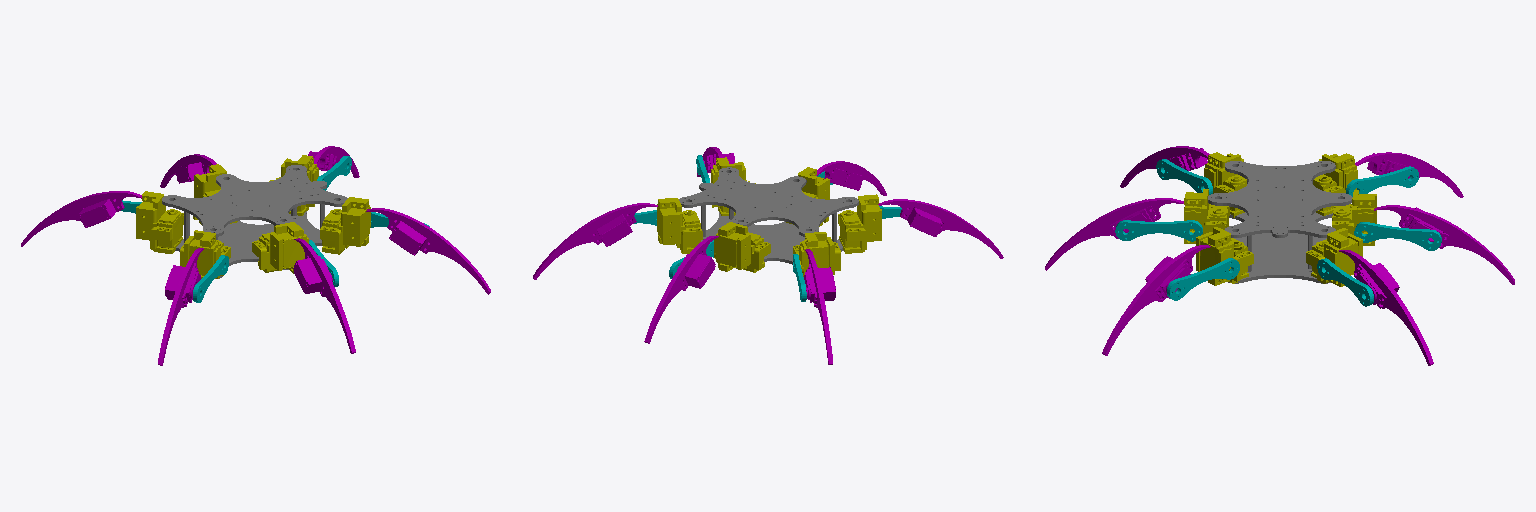
robot.urdf — hexapod:
<?xml version="1.0" encoding="utf-8"?>
<!-- =================================================================================== -->
<!-- |    This document was autogenerated by xacro from hexapod_model.xacro            | -->
<!-- |    EDITING THIS FILE BY HAND IS NOT RECOMMENDED                                 | -->
<!-- =================================================================================== -->
<robot name="hexapod">
  <!-- Robot Frame -->
  <link name="base_link"/>
  <joint name="base_joint" type="fixed">
    <parent link="base_link"/>
    <child link="body"/>
    <origin rpy="0 0 0" xyz="0 0 0"/>
  </joint>
  <link name="body">
    <inertial>
      <mass value="0.8"/>
      <inertia ixx="0.007" ixy="0" ixz="0" iyy="0.012" iyz="0" izz="0.010"/>
    </inertial>
    <visual>
      <origin rpy="0 0 0" xyz="0 0 0"/>
      <geometry>
        <mesh filename="package://hexapod_description/meshes/BODY.stl"/>
      </geometry>
      <material name="grey">
        <color rgba="0.5 0.5 0.5 1"/>
      </material>
    </visual>
    <collision>
      <origin rpy="0 0 0" xyz="0 0 0"/>
      <geometry>
        <mesh filename="package://hexapod_description/meshes/BODY_SIMPLIFIED.stl"/>
      </geometry>
    </collision>
  </link>
  <!-- Construindo a perna [Building a leg]-->
  <joint name="leg_center_joint_R1" type="fixed">
    <origin rpy="0 0 0" xyz="0.0875 0.050175 0"/>
    <parent link="body"/>
    <child link="leg_center_R1"/>
  </joint>
  <link name="leg_center_R1"/>
  <joint name="coxa_joint_R1" type="revolute">
    <origin rpy="0 0 0.785398163397" xyz="0 0 0"/>
    <parent link="leg_center_R1"/>
    <child link="coxa_R1"/>
    <axis xyz="0 0 -1"/>
    <limit effort="10000" lower="-1.5" upper="-1.5" velocity="100"/>
  </joint>
  <link name="coxa_R1">
    <inertial>
      <mass value="0.5"/>
      <inertia ixx="0.001" ixy="0" ixz="0" iyy="0" iyz="0" izz="0.001"/>
    </inertial>
    <visual>
      <origin rpy="0 0 0" xyz="0 0 0"/>
      <geometry>
        <mesh filename="package://hexapod_description/meshes/COXA_R.stl"/>
      </geometry>
      <material name="">
        <color rgba="0.7 0.7 0 1"/>
      </material>
    </visual>
    <collision>
      <origin rpy="0 0 0" xyz="0 0 0"/>
      <geometry>
        <mesh filename="package://hexapod_description/meshes/COXA_R_SIMPLIFIED.stl"/>
      </geometry>
    </collision>
  </link>
  <joint name="femur_joint_R1" type="revolute">
    <origin rpy="0 0 -1.57079632679" xyz="-0.022 -0.028 0.0274"/>
    <parent link="coxa_R1"/>
    <child link="femur_R1"/>
    <axis xyz="0 0 -1"/>
    <limit effort="10000" lower="-1.5" upper="-1.5" velocity="100"/>
  </joint>
  <link name="femur_R1">
    <inertial>
      <mass value="0.05"/>
      <inertia ixx="0" ixy="0" ixz="0" iyy="0" iyz="0" izz="0"/>
    </inertial>
    <visual>
      <origin rpy="0 0 0" xyz="0 0 0"/>
      <geometry>
        <mesh filename="package://hexapod_description/meshes/FEMUR_R.stl"/>
      </geometry>
      <material name="">
        <color rgba="0 0.7 0.7 1"/>
      </material>
    </visual>
    <collision>
      <origin rpy="0 0 0" xyz="0 0 0"/>
      <geometry>
        <mesh filename="package://hexapod_description/meshes/FEMUR_R_SIMPLIFIED.stl"/>
      </geometry>
    </collision>
  </link>
  <joint name="tibia_joint_R1" type="revolute">
    <origin rpy="0 0 1.57079632679" xyz="0.003 -0.0765 -0.0055"/>
    <parent link="femur_R1"/>
    <child link="tibia_R1"/>
    <axis xyz="0 0 1"/>
    <limit effort="10000" lower="-1.5" upper="-1.5" velocity="100"/>
  </joint>
  <link name="tibia_R1">
    <inertial>
      <mass value="0.2"/>
      <inertia ixx="0" ixy="0" ixz="0" iyy="0" iyz="0" izz="0"/>
    </inertial>
    <visual>
      <origin rpy="0 0 0" xyz="0 0 0"/>
      <geometry>
        <mesh filename="package://hexapod_description/meshes/TIBIA_R.stl"/>
      </geometry>
      <material name="">
        <color rgba="0.7 0 0.7 1"/>
      </material>
    </visual>
    <collision>
      <origin rpy="0 0 0" xyz="0 0 0"/>
      <geometry>
        <mesh filename="package://hexapod_description/meshes/TIBIA_R_SIMPLIFIED.stl"/>
      </geometry>
    </collision>
  </link>
  <joint name="tibia_foot_joint_R1" type="fixed">
    <origin rpy="0 0 0" xyz="0 0.100 -0.094"/>
    <parent link="tibia_R1"/>
    <child link="tibia_foot_R1"/>
  </joint>
  <link name="tibia_foot_R1"/>
  <!-- Construindo a perna [Building a leg]-->
  <joint name="leg_center_joint_R2" type="fixed">
    <origin rpy="0 0 0" xyz="0 0.07 0"/>
    <parent link="body"/>
    <child link="leg_center_R2"/>
  </joint>
  <link name="leg_center_R2"/>
  <joint name="coxa_joint_R2" type="revolute">
    <origin rpy="0 0 1.57079632679" xyz="0 0 0"/>
    <parent link="leg_center_R2"/>
    <child link="coxa_R2"/>
    <axis xyz="0 0 -1"/>
    <limit effort="10000" lower="-1.5" upper="-1.5" velocity="100"/>
  </joint>
  <link name="coxa_R2">
    <inertial>
      <mass value="0.5"/>
      <inertia ixx="0.001" ixy="0" ixz="0" iyy="0" iyz="0" izz="0.001"/>
    </inertial>
    <visual>
      <origin rpy="0 0 0" xyz="0 0 0"/>
      <geometry>
        <mesh filename="package://hexapod_description/meshes/COXA_R.stl"/>
      </geometry>
      <material name="">
        <color rgba="0.7 0.7 0 1"/>
      </material>
    </visual>
    <collision>
      <origin rpy="0 0 0" xyz="0 0 0"/>
      <geometry>
        <mesh filename="package://hexapod_description/meshes/COXA_R_SIMPLIFIED.stl"/>
      </geometry>
    </collision>
  </link>
  <joint name="femur_joint_R2" type="revolute">
    <origin rpy="0 0 -1.57079632679" xyz="-0.022 -0.028 0.0274"/>
    <parent link="coxa_R2"/>
    <child link="femur_R2"/>
    <axis xyz="0 0 -1"/>
    <limit effort="10000" lower="-1.5" upper="-1.5" velocity="100"/>
  </joint>
  <link name="femur_R2">
    <inertial>
      <mass value="0.05"/>
      <inertia ixx="0" ixy="0" ixz="0" iyy="0" iyz="0" izz="0"/>
    </inertial>
    <visual>
      <origin rpy="0 0 0" xyz="0 0 0"/>
      <geometry>
        <mesh filename="package://hexapod_description/meshes/FEMUR_R.stl"/>
      </geometry>
      <material name="">
        <color rgba="0 0.7 0.7 1"/>
      </material>
    </visual>
    <collision>
      <origin rpy="0 0 0" xyz="0 0 0"/>
      <geometry>
        <mesh filename="package://hexapod_description/meshes/FEMUR_R_SIMPLIFIED.stl"/>
      </geometry>
    </collision>
  </link>
  <joint name="tibia_joint_R2" type="revolute">
    <origin rpy="0 0 1.57079632679" xyz="0.003 -0.0765 -0.0055"/>
    <parent link="femur_R2"/>
    <child link="tibia_R2"/>
    <axis xyz="0 0 1"/>
    <limit effort="10000" lower="-1.5" upper="-1.5" velocity="100"/>
  </joint>
  <link name="tibia_R2">
    <inertial>
      <mass value="0.2"/>
      <inertia ixx="0" ixy="0" ixz="0" iyy="0" iyz="0" izz="0"/>
    </inertial>
    <visual>
      <origin rpy="0 0 0" xyz="0 0 0"/>
      <geometry>
        <mesh filename="package://hexapod_description/meshes/TIBIA_R.stl"/>
      </geometry>
      <material name="">
        <color rgba="0.7 0 0.7 1"/>
      </material>
    </visual>
    <collision>
      <origin rpy="0 0 0" xyz="0 0 0"/>
      <geometry>
        <mesh filename="package://hexapod_description/meshes/TIBIA_R_SIMPLIFIED.stl"/>
      </geometry>
    </collision>
  </link>
  <joint name="tibia_foot_joint_R2" type="fixed">
    <origin rpy="0 0 0" xyz="0 0.100 -0.094"/>
    <parent link="tibia_R2"/>
    <child link="tibia_foot_R2"/>
  </joint>
  <link name="tibia_foot_R2"/>
  <!-- Construindo a perna [Building a leg]-->
  <joint name="leg_center_joint_R3" type="fixed">
    <origin rpy="0 0 0" xyz="-0.0875 0.050175 0"/>
    <parent link="body"/>
    <child link="leg_center_R3"/>
  </joint>
  <link name="leg_center_R3"/>
  <joint name="coxa_joint_R3" type="revolute">
    <origin rpy="0 0 2.35619449019" xyz="0 0 0"/>
    <parent link="leg_center_R3"/>
    <child link="coxa_R3"/>
    <axis xyz="0 0 -1"/>
    <limit effort="10000" lower="-1.5" upper="-1.5" velocity="100"/>
  </joint>
  <link name="coxa_R3">
    <inertial>
      <mass value="0.5"/>
      <inertia ixx="0.001" ixy="0" ixz="0" iyy="0" iyz="0" izz="0.001"/>
    </inertial>
    <visual>
      <origin rpy="0 0 0" xyz="0 0 0"/>
      <geometry>
        <mesh filename="package://hexapod_description/meshes/COXA_R.stl"/>
      </geometry>
      <material name="">
        <color rgba="0.7 0.7 0 1"/>
      </material>
    </visual>
    <collision>
      <origin rpy="0 0 0" xyz="0 0 0"/>
      <geometry>
        <mesh filename="package://hexapod_description/meshes/COXA_R_SIMPLIFIED.stl"/>
      </geometry>
    </collision>
  </link>
  <joint name="femur_joint_R3" type="revolute">
    <origin rpy="0 0 -1.57079632679" xyz="-0.022 -0.028 0.0274"/>
    <parent link="coxa_R3"/>
    <child link="femur_R3"/>
    <axis xyz="0 0 -1"/>
    <limit effort="10000" lower="-1.5" upper="-1.5" velocity="100"/>
  </joint>
  <link name="femur_R3">
    <inertial>
      <mass value="0.05"/>
      <inertia ixx="0" ixy="0" ixz="0" iyy="0" iyz="0" izz="0"/>
    </inertial>
    <visual>
      <origin rpy="0 0 0" xyz="0 0 0"/>
      <geometry>
        <mesh filename="package://hexapod_description/meshes/FEMUR_R.stl"/>
      </geometry>
      <material name="">
        <color rgba="0 0.7 0.7 1"/>
      </material>
    </visual>
    <collision>
      <origin rpy="0 0 0" xyz="0 0 0"/>
      <geometry>
        <mesh filename="package://hexapod_description/meshes/FEMUR_R_SIMPLIFIED.stl"/>
      </geometry>
    </collision>
  </link>
  <joint name="tibia_joint_R3" type="revolute">
    <origin rpy="0 0 1.57079632679" xyz="0.003 -0.0765 -0.0055"/>
    <parent link="femur_R3"/>
    <child link="tibia_R3"/>
    <axis xyz="0 0 1"/>
    <limit effort="10000" lower="-1.5" upper="-1.5" velocity="100"/>
  </joint>
  <link name="tibia_R3">
    <inertial>
      <mass value="0.2"/>
      <inertia ixx="0" ixy="0" ixz="0" iyy="0" iyz="0" izz="0"/>
    </inertial>
    <visual>
      <origin rpy="0 0 0" xyz="0 0 0"/>
      <geometry>
        <mesh filename="package://hexapod_description/meshes/TIBIA_R.stl"/>
      </geometry>
      <material name="">
        <color rgba="0.7 0 0.7 1"/>
      </material>
    </visual>
    <collision>
      <origin rpy="0 0 0" xyz="0 0 0"/>
      <geometry>
        <mesh filename="package://hexapod_description/meshes/TIBIA_R_SIMPLIFIED.stl"/>
      </geometry>
    </collision>
  </link>
  <joint name="tibia_foot_joint_R3" type="fixed">
    <origin rpy="0 0 0" xyz="0 0.100 -0.094"/>
    <parent link="tibia_R3"/>
    <child link="tibia_foot_R3"/>
  </joint>
  <link name="tibia_foot_R3"/>
  <!-- Construindo a perna [Building a leg]-->
  <joint name="leg_center_joint_L1" type="fixed">
    <origin rpy="0 0 0" xyz="0.0875 -0.050175 0"/>
    <parent link="body"/>
    <child link="leg_center_L1"/>
  </joint>
  <link name="leg_center_L1"/>
  <joint name="coxa_joint_L1" type="revolute">
    <origin rpy="0 0 2.35619449019" xyz="0 0 0"/>
    <parent link="leg_center_L1"/>
    <child link="coxa_L1"/>
    <axis xyz="0 0 -1"/>
    <limit effort="10000" lower="-1.5" upper="-1.5" velocity="100"/>
  </joint>
  <link name="coxa_L1">
    <inertial>
      <mass value="0.5"/>
      <inertia ixx="0.001" ixy="0" ixz="0" iyy="0" iyz="0" izz="0.001"/>
    </inertial>
    <visual>
      <origin rpy="0 0 0" xyz="0 0 0"/>
      <geometry>
        <mesh filename="package://hexapod_description/meshes/COXA_L.stl"/>
      </geometry>
      <material name="">
        <color rgba="0.7 0.7 0 1"/>
      </material>
    </visual>
    <collision>
      <origin rpy="0 0 0" xyz="0 0 0"/>
      <geometry>
        <mesh filename="package://hexapod_description/meshes/COXA_L_SIMPLIFIED.stl"/>
      </geometry>
    </collision>
  </link>
  <joint name="femur_joint_L1" type="revolute">
    <origin rpy="0 0 -1.57079632679" xyz="-0.022 0.028 0.0274"/>
    <parent link="coxa_L1"/>
    <child link="femur_L1"/>
    <axis xyz="0 0 -1"/>
    <limit effort="10000" lower="-1.5" upper="-1.5" velocity="100"/>
  </joint>
  <link name="femur_L1">
    <inertial>
      <mass value="0.05"/>
      <inertia ixx="0" ixy="0" ixz="0" iyy="0" iyz="0" izz="0"/>
    </inertial>
    <visual>
      <origin rpy="0 0 0" xyz="0 0 0"/>
      <geometry>
        <mesh filename="package://hexapod_description/meshes/FEMUR_L.stl"/>
      </geometry>
      <material name="">
        <color rgba="0 0.7 0.7 1"/>
      </material>
    </visual>
    <collision>
      <origin rpy="0 0 0" xyz="0 0 0"/>
      <geometry>
        <mesh filename="package://hexapod_description/meshes/FEMUR_L_SIMPLIFIED.stl"/>
      </geometry>
    </collision>
  </link>
  <joint name="tibia_joint_L1" type="revolute">
    <origin rpy="0 0 1.57079632679" xyz="0.003 0.0765 -0.0055"/>
    <parent link="femur_L1"/>
    <child link="tibia_L1"/>
    <axis xyz="0 0 1"/>
    <limit effort="10000" lower="-1.5" upper="-1.5" velocity="100"/>
  </joint>
  <link name="tibia_L1">
    <inertial>
      <mass value="0.2"/>
      <inertia ixx="0" ixy="0" ixz="0" iyy="0" iyz="0" izz="0"/>
    </inertial>
    <visual>
      <origin rpy="0 0 0" xyz="0 0 0"/>
      <geometry>
        <mesh filename="package://hexapod_description/meshes/TIBIA_L.stl"/>
      </geometry>
      <material name="">
        <color rgba="0.7 0 0.7 1"/>
      </material>
    </visual>
    <collision>
      <origin rpy="0 0 0" xyz="0 0 0"/>
      <geometry>
        <mesh filename="package://hexapod_description/meshes/TIBIA_L_SIMPLIFIED.stl"/>
      </geometry>
    </collision>
  </link>
  <joint name="tibia_foot_joint_L1" type="fixed">
    <origin rpy="0 0 0" xyz="0 0.100 -0.094"/>
    <parent link="tibia_L1"/>
    <child link="tibia_foot_L1"/>
  </joint>
  <link name="tibia_foot_L1"/>
  <!-- Construindo a perna [Building a leg]-->
  <joint name="leg_center_joint_L2" type="fixed">
    <origin rpy="0 0 0" xyz="0 -0.07 0"/>
    <parent link="body"/>
    <child link="leg_center_L2"/>
  </joint>
  <link name="leg_center_L2"/>
  <joint name="coxa_joint_L2" type="revolute">
    <origin rpy="0 0 1.57079632679" xyz="0 0 0"/>
    <parent link="leg_center_L2"/>
    <child link="coxa_L2"/>
    <axis xyz="0 0 -1"/>
    <limit effort="10000" lower="-1.5" upper="-1.5" velocity="100"/>
  </joint>
  <link name="coxa_L2">
    <inertial>
      <mass value="0.5"/>
      <inertia ixx="0.001" ixy="0" ixz="0" iyy="0" iyz="0" izz="0.001"/>
    </inertial>
    <visual>
      <origin rpy="0 0 0" xyz="0 0 0"/>
      <geometry>
        <mesh filename="package://hexapod_description/meshes/COXA_L.stl"/>
      </geometry>
      <material name="">
        <color rgba="0.7 0.7 0 1"/>
      </material>
    </visual>
    <collision>
      <origin rpy="0 0 0" xyz="0 0 0"/>
      <geometry>
        <mesh filename="package://hexapod_description/meshes/COXA_L_SIMPLIFIED.stl"/>
      </geometry>
    </collision>
  </link>
  <joint name="femur_joint_L2" type="revolute">
    <origin rpy="0 0 -1.57079632679" xyz="-0.022 0.028 0.0274"/>
    <parent link="coxa_L2"/>
    <child link="femur_L2"/>
    <axis xyz="0 0 -1"/>
    <limit effort="10000" lower="-1.5" upper="-1.5" velocity="100"/>
  </joint>
  <link name="femur_L2">
    <inertial>
      <mass value="0.05"/>
      <inertia ixx="0" ixy="0" ixz="0" iyy="0" iyz="0" izz="0"/>
    </inertial>
    <visual>
      <origin rpy="0 0 0" xyz="0 0 0"/>
      <geometry>
        <mesh filename="package://hexapod_description/meshes/FEMUR_L.stl"/>
      </geometry>
      <material name="">
        <color rgba="0 0.7 0.7 1"/>
      </material>
    </visual>
    <collision>
      <origin rpy="0 0 0" xyz="0 0 0"/>
      <geometry>
        <mesh filename="package://hexapod_description/meshes/FEMUR_L_SIMPLIFIED.stl"/>
      </geometry>
    </collision>
  </link>
  <joint name="tibia_joint_L2" type="revolute">
    <origin rpy="0 0 1.57079632679" xyz="0.003 0.0765 -0.0055"/>
    <parent link="femur_L2"/>
    <child link="tibia_L2"/>
    <axis xyz="0 0 1"/>
    <limit effort="10000" lower="-1.5" upper="-1.5" velocity="100"/>
  </joint>
  <link name="tibia_L2">
    <inertial>
      <mass value="0.2"/>
      <inertia ixx="0" ixy="0" ixz="0" iyy="0" iyz="0" izz="0"/>
    </inertial>
    <visual>
      <origin rpy="0 0 0" xyz="0 0 0"/>
      <geometry>
        <mesh filename="package://hexapod_description/meshes/TIBIA_L.stl"/>
      </geometry>
      <material name="">
        <color rgba="0.7 0 0.7 1"/>
      </material>
    </visual>
    <collision>
      <origin rpy="0 0 0" xyz="0 0 0"/>
      <geometry>
        <mesh filename="package://hexapod_description/meshes/TIBIA_L_SIMPLIFIED.stl"/>
      </geometry>
    </collision>
  </link>
  <joint name="tibia_foot_joint_L2" type="fixed">
    <origin rpy="0 0 0" xyz="0 0.100 -0.094"/>
    <parent link="tibia_L2"/>
    <child link="tibia_foot_L2"/>
  </joint>
  <link name="tibia_foot_L2"/>
  <!-- Construindo a perna [Building a leg]-->
  <joint name="leg_center_joint_L3" type="fixed">
    <origin rpy="0 0 0" xyz="-0.0875 -0.050175 0"/>
    <parent link="body"/>
    <child link="leg_center_L3"/>
  </joint>
  <link name="leg_center_L3"/>
  <joint name="coxa_joint_L3" type="revolute">
    <origin rpy="0 0 0.785398163397" xyz="0 0 0"/>
    <parent link="leg_center_L3"/>
    <child link="coxa_L3"/>
    <axis xyz="0 0 -1"/>
    <limit effort="10000" lower="-1.5" upper="-1.5" velocity="100"/>
  </joint>
  <link name="coxa_L3">
    <inertial>
      <mass value="0.5"/>
      <inertia ixx="0.001" ixy="0" ixz="0" iyy="0" iyz="0" izz="0.001"/>
    </inertial>
    <visual>
      <origin rpy="0 0 0" xyz="0 0 0"/>
      <geometry>
        <mesh filename="package://hexapod_description/meshes/COXA_L.stl"/>
      </geometry>
      <material name="">
        <color rgba="0.7 0.7 0 1"/>
      </material>
    </visual>
    <collision>
      <origin rpy="0 0 0" xyz="0 0 0"/>
      <geometry>
        <mesh filename="package://hexapod_description/meshes/COXA_L_SIMPLIFIED.stl"/>
      </geometry>
    </collision>
  </link>
  <joint name="femur_joint_L3" type="revolute">
    <origin rpy="0 0 -1.57079632679" xyz="-0.022 0.028 0.0274"/>
    <parent link="coxa_L3"/>
    <child link="femur_L3"/>
    <axis xyz="0 0 -1"/>
    <limit effort="10000" lower="-1.5" upper="-1.5" velocity="100"/>
  </joint>
  <link name="femur_L3">
    <inertial>
      <mass value="0.05"/>
      <inertia ixx="0" ixy="0" ixz="0" iyy="0" iyz="0" izz="0"/>
    </inertial>
    <visual>
      <origin rpy="0 0 0" xyz="0 0 0"/>
      <geometry>
        <mesh filename="package://hexapod_description/meshes/FEMUR_L.stl"/>
      </geometry>
      <material name="">
        <color rgba="0 0.7 0.7 1"/>
      </material>
    </visual>
    <collision>
      <origin rpy="0 0 0" xyz="0 0 0"/>
      <geometry>
        <mesh filename="package://hexapod_description/meshes/FEMUR_L_SIMPLIFIED.stl"/>
      </geometry>
    </collision>
  </link>
  <joint name="tibia_joint_L3" type="revolute">
    <origin rpy="0 0 1.57079632679" xyz="0.003 0.0765 -0.0055"/>
    <parent link="femur_L3"/>
    <child link="tibia_L3"/>
    <axis xyz="0 0 1"/>
    <limit effort="10000" lower="-1.5" upper="-1.5" velocity="100"/>
  </joint>
  <link name="tibia_L3">
    <inertial>
      <mass value="0.2"/>
      <inertia ixx="0" ixy="0" ixz="0" iyy="0" iyz="0" izz="0"/>
    </inertial>
    <visual>
      <origin rpy="0 0 0" xyz="0 0 0"/>
      <geometry>
        <mesh filename="package://hexapod_description/meshes/TIBIA_L.stl"/>
      </geometry>
      <material name="">
        <color rgba="0.7 0 0.7 1"/>
      </material>
    </visual>
    <collision>
      <origin rpy="0 0 0" xyz="0 0 0"/>
      <geometry>
        <mesh filename="package://hexapod_description/meshes/TIBIA_L_SIMPLIFIED.stl"/>
      </geometry>
    </collision>
  </link>
  <joint name="tibia_foot_joint_L3" type="fixed">
    <origin rpy="0 0 0" xyz="0 0.100 -0.094"/>
    <parent link="tibia_L3"/>
    <child link="tibia_foot_L3"/>
  </joint>
  <link name="tibia_foot_L3"/>
</robot>

--- What the picture shows (computed from the rendered views, not written in the file) ---
The picture shows the robot from 3 angles, left to right: view 1: azimuth 30°, elevation 25°; view 2: azimuth 150°, elevation 25°; view 3: azimuth 270°, elevation 25°; orthographic projection.
Model hexapod with 32 links and 31 joints (18 revolute, 13 fixed), rooted at base_link, posed all joints at 0 but 18 set to mid-range because 0 is outside their limits (coxa_joint_R1 = -1.5, femur_joint_R1 = -1.5, tibia_joint_R1 = -1.5, coxa_joint_R2 = -1.5, femur_joint_R2 = -1.5, tibia_joint_R2 = -1.5, +12 more).
Visible links, largest first — view 1: body, tibia_L1, coxa_L1, coxa_R3, tibia_R3, coxa_L2, tibia_L2, tibia_L3, coxa_L3, tibia_R2, coxa_R2, tibia_R1 (+2 smaller); view 2: body, tibia_R1, coxa_R2, tibia_L3, coxa_L3, coxa_R1, tibia_R2, tibia_R3, coxa_R3, tibia_L2, coxa_L2; view 3: body, tibia_L1, tibia_R1, tibia_R2, tibia_L2, coxa_L1, coxa_R1, tibia_R3, coxa_L2, femur_R2, femur_L2, coxa_R2 (+7 smaller).
Link boxes in pixels (x1,y1,x2,y2): body: (162, 165, 347, 278); tibia_L1: (366, 208, 490, 294); coxa_L1: (320, 197, 370, 254); coxa_R3: (136, 191, 183, 253); tibia_R3: (21, 191, 141, 246); coxa_L2: (252, 222, 308, 273); tibia_L2: (293, 238, 355, 353); tibia_L3: (158, 248, 203, 365); coxa_L3: (180, 230, 230, 278); tibia_R2: (160, 154, 216, 187); coxa_R2: (193, 164, 237, 224); tibia_R1: (308, 146, 359, 177); body: (679, 167, 858, 268); tibia_R1: (533, 203, 657, 279); coxa_R2: (714, 222, 770, 272); tibia_L3: (878, 199, 1003, 258); coxa_L3: (838, 194, 881, 253); coxa_R1: (657, 198, 702, 253); tibia_R2: (644, 236, 718, 343); tibia_R3: (804, 249, 835, 364); coxa_R3: (793, 232, 840, 276); tibia_L2: (816, 161, 886, 195); coxa_L2: (786, 167, 829, 226); body: (1208, 161, 1352, 283); tibia_L1: (1102, 245, 1210, 355); tibia_R1: (1339, 250, 1433, 365); tibia_R2: (1374, 205, 1514, 284); tibia_L2: (1045, 198, 1183, 270); coxa_L1: (1196, 227, 1253, 285); coxa_R1: (1306, 228, 1362, 286); tibia_R3: (1355, 152, 1463, 197); coxa_L2: (1184, 189, 1229, 243); femur_R2: (1354, 222, 1441, 250); femur_L2: (1115, 220, 1202, 241); coxa_R2: (1332, 190, 1376, 245).
Size in the robot's own frame: 0.4862 by 0.536 by 0.0987 metres.
Meshes: 7 distinct files referenced, 19 mesh visuals loaded (7 binary STL).